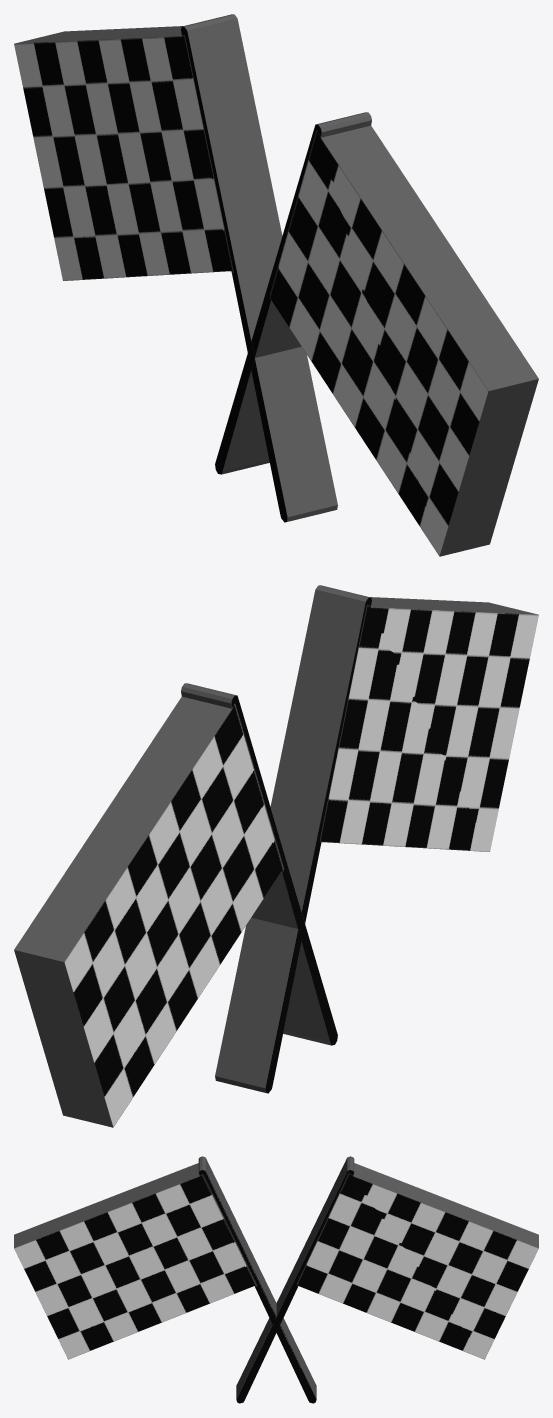
The model's file is RunFlags.fbx.
The picture shows the model from 3 angles, top to bottom: view 1: azimuth 30°, elevation 25°; view 2: azimuth 150°, elevation 25°; view 3: azimuth 270°, elevation 25°; orthographic projection. The views are drawn at different scales.
Parts seen in each view (by area): view 1: Plane.002; view 2: Plane.002; view 3: Plane.002.
Part boxes in pixels (box(x1,y1,x2,y2)): Plane.002: box(14, 14, 538, 556); Plane.002: box(14, 585, 538, 1127); Plane.002: box(14, 1156, 538, 1403).
Bounding box in the file's own units: 48 × 385 × 784.
